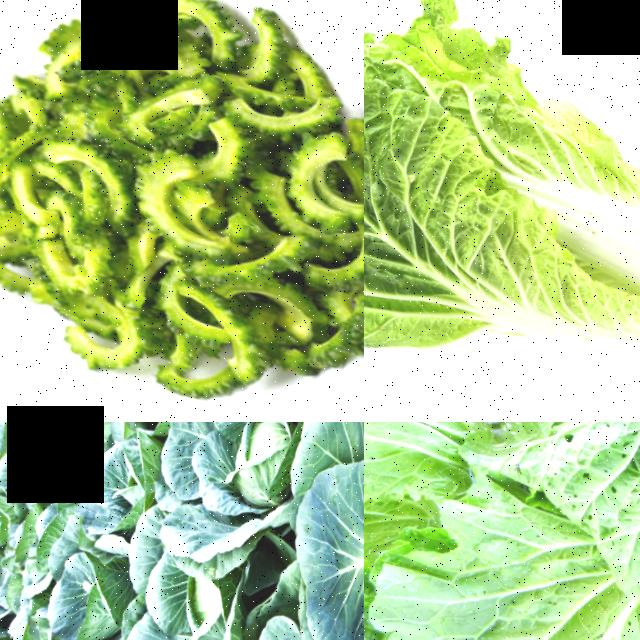cabbage: (364, 0, 640, 422), (107, 512, 277, 640), (6, 522, 172, 640), (153, 422, 322, 537), (62, 422, 180, 542), (30, 422, 126, 524), (0, 422, 74, 517)
